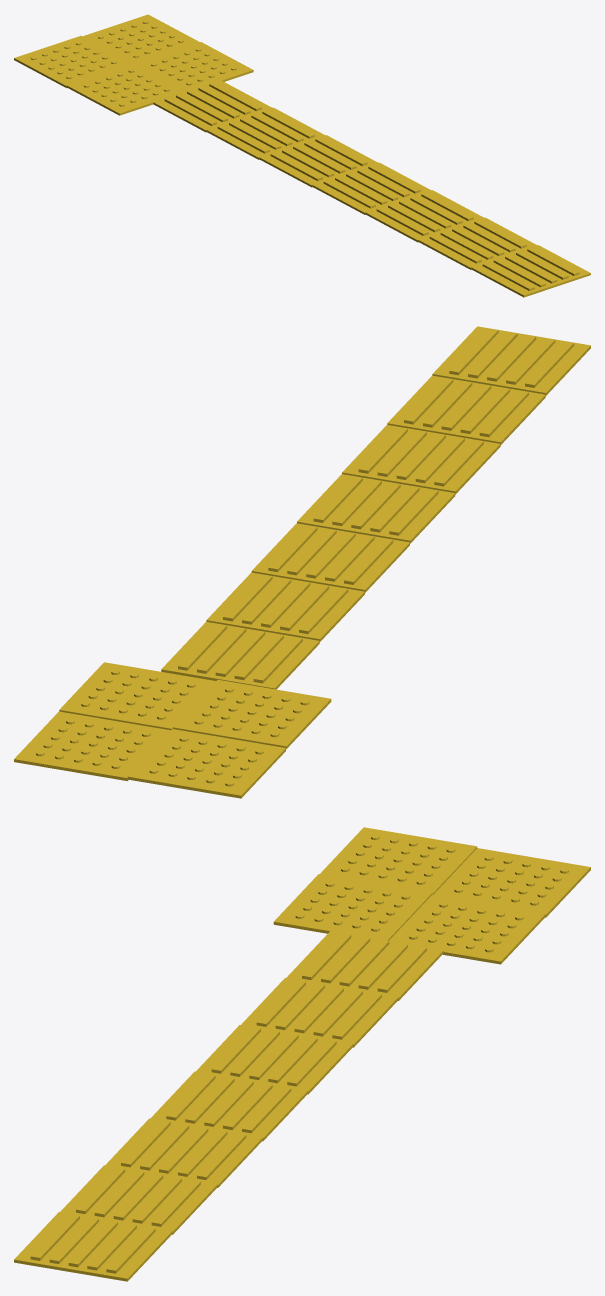
The model's file is tactile.glb.
3 renders of one model, top to bottom at view 1: azimuth 30°, elevation 25°; view 2: azimuth 150°, elevation 25°; view 3: azimuth 330°, elevation 25°, orthographic. The views are drawn at different scales.
Visible parts, largest first — view 1: fit_tactile_ground_marking_fit_tactile; view 2: fit_tactile_ground_marking_fit_tactile; view 3: fit_tactile_ground_marking_fit_tactile.
Part boxes in pixels (box(x1,y1,x2,y2)): fit_tactile_ground_marking_fit_tactile: box(14, 14, 590, 297); fit_tactile_ground_marking_fit_tactile: box(14, 326, 590, 798); fit_tactile_ground_marking_fit_tactile: box(14, 827, 590, 1281).
Size of the model in its own units: 0.8348 by 0.0446 by 2.73.
